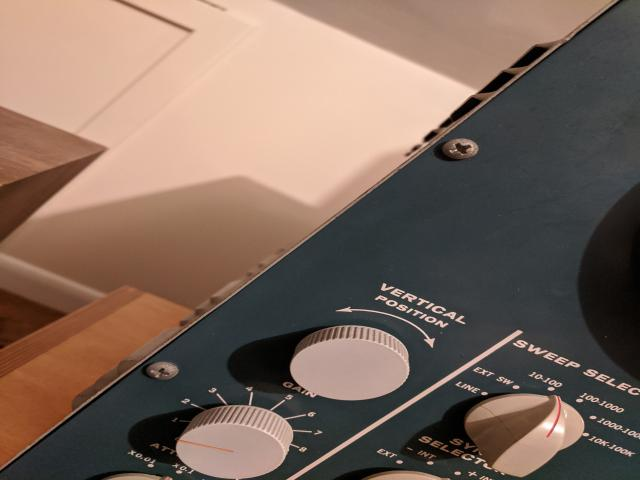CRS: (439, 138, 481, 161), (145, 361, 181, 381)
